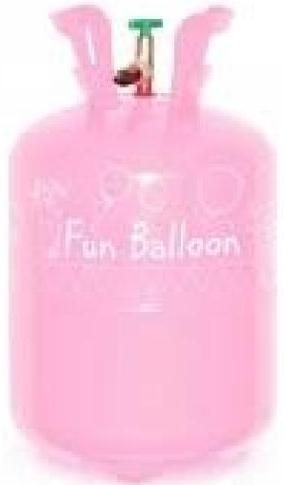cylinder: (0, 1, 284, 485)
